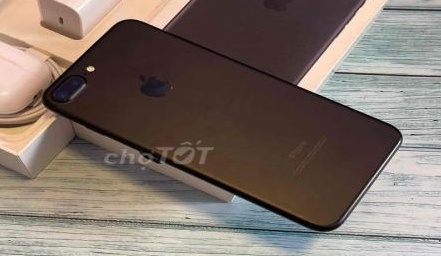scratch: (295, 210, 306, 222)
